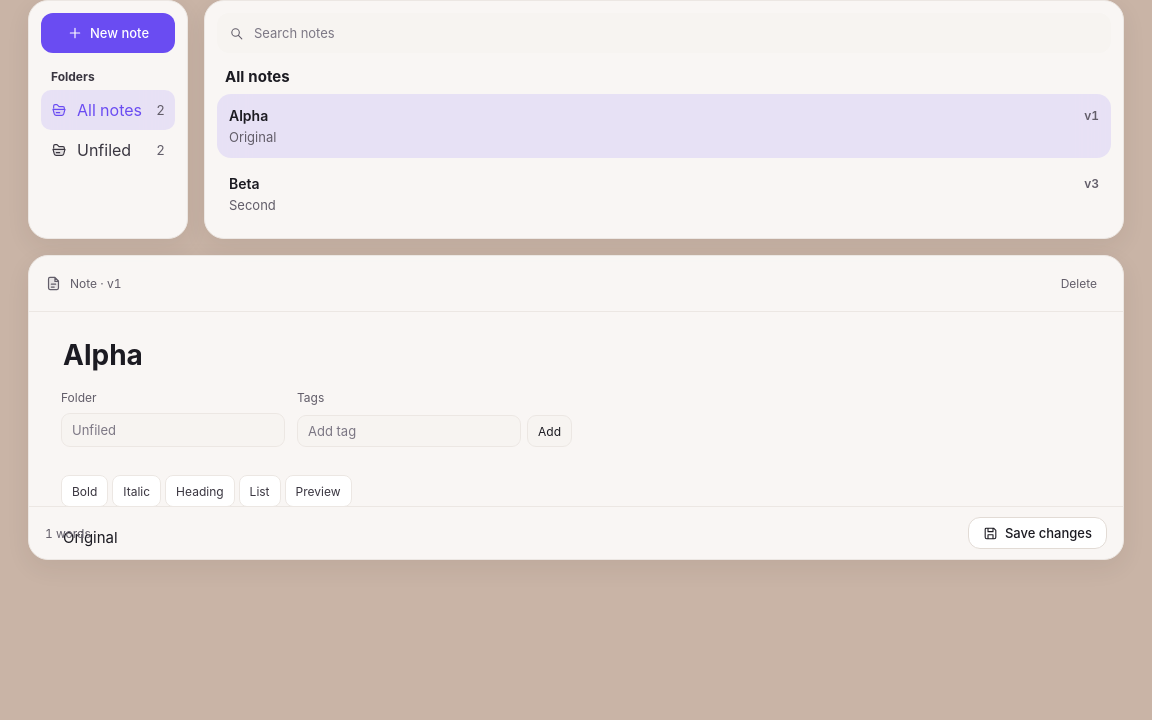
note drafts › confirms deletion and removes only the selected note after success
The width and height of the screenshot is (1152, 720).
Click the button "Delete". click: (1079, 284)
box: [1051,270,1107,297]
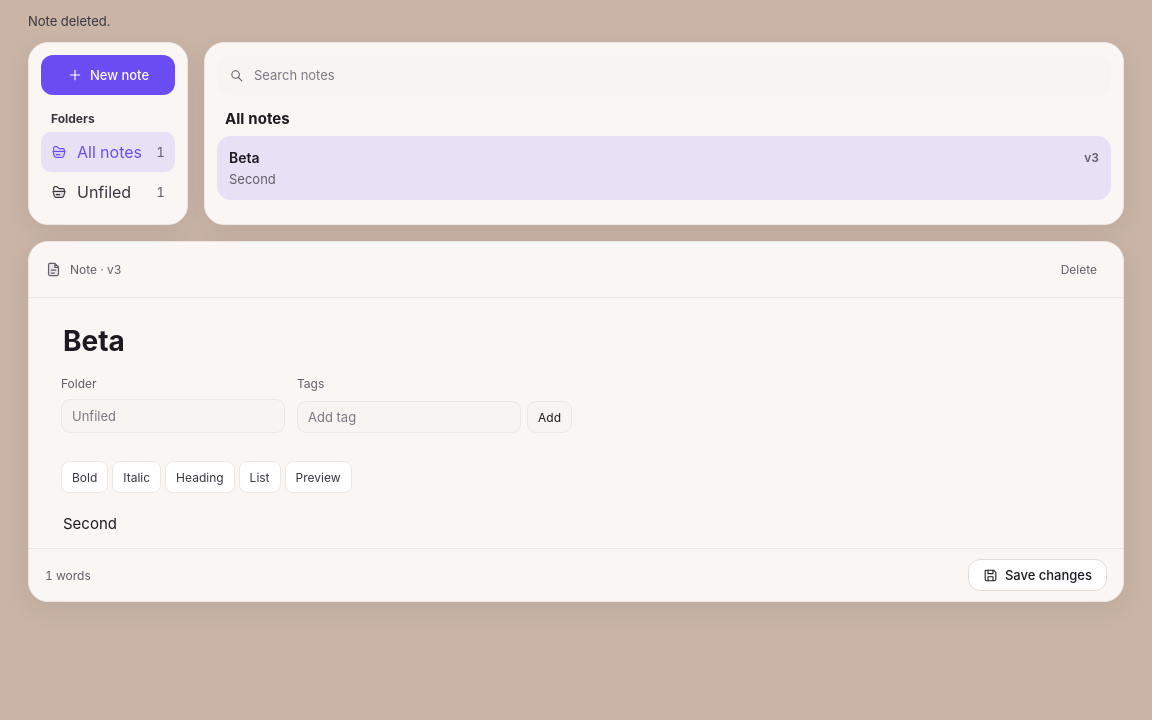
Expected: the element with class "nl-note-list" shows "Beta", [217,136,1111,200]
Expected: the button with class "nl-note-list" no longer shows "Alpha"
